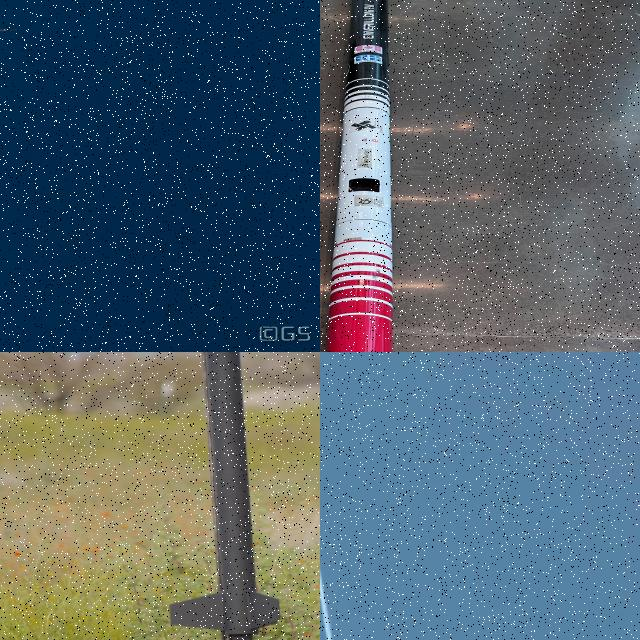Rocket: (168, 352, 289, 640), (325, 0, 394, 352), (3, 27, 18, 31)
